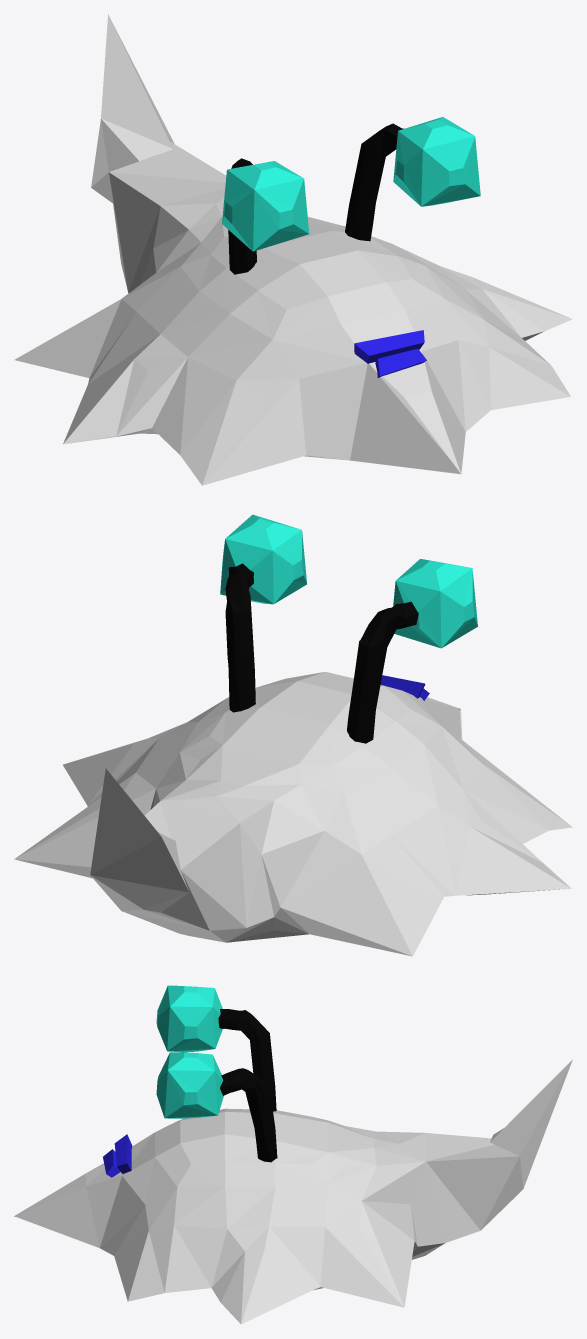
Rendered from species_04_rs.glb.
3 renders of one model, top to bottom at view 1: azimuth 30°, elevation 25°; view 2: azimuth 150°, elevation 25°; view 3: azimuth 270°, elevation 25°, orthographic. The views are drawn at different scales.
Parts seen in each view (by area): view 1: Quad Sphere, Sphere.001, Sphere, Cylinder.001, Sphere.002, Cylinder, Sphere.003; view 2: Quad Sphere, Sphere, Sphere.001, Cylinder, Cylinder.001; view 3: Quad Sphere, Sphere.001, Sphere, Cylinder.001, Cylinder, Sphere.002.
Boxes of the visible parts, x1,y1,x2,y2 form: Quad Sphere: (14,14,572,485); Sphere.001: (393,117,480,206); Sphere: (222,161,309,251); Cylinder.001: (345,123,403,241); Sphere.002: (354,330,424,363); Cylinder: (228,158,256,274); Sphere.003: (375,348,426,377); Quad Sphere: (14,671,572,956); Sphere: (393,559,477,648); Sphere.001: (220,514,306,604); Cylinder: (347,601,418,743); Cylinder.001: (225,563,255,712); Quad Sphere: (14,1059,572,1324); Sphere.001: (156,1052,223,1118); Sphere: (156,985,222,1052); Cylinder.001: (220,1068,277,1162); Cylinder: (218,1009,276,1111); Sphere.002: (114,1134,132,1173).
Size of the model in its own units: 15.36 by 8.49 by 18.5.
